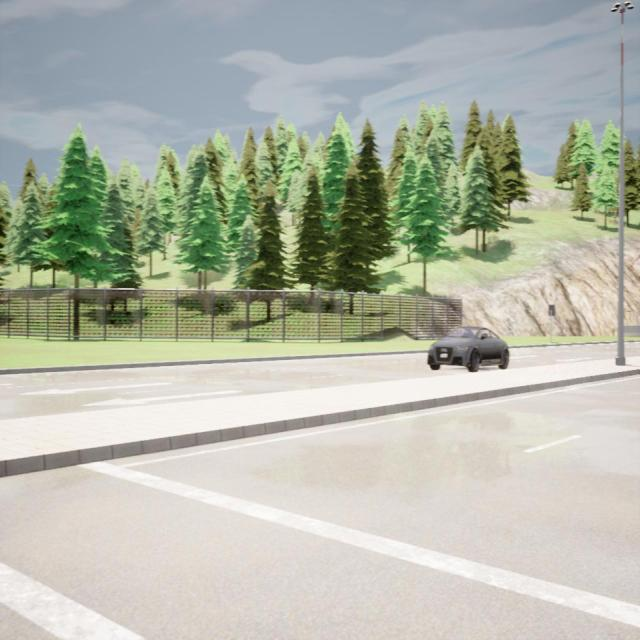Traffic_Signs: (548, 304, 555, 316)
Vehicle: (427, 327, 509, 371)
